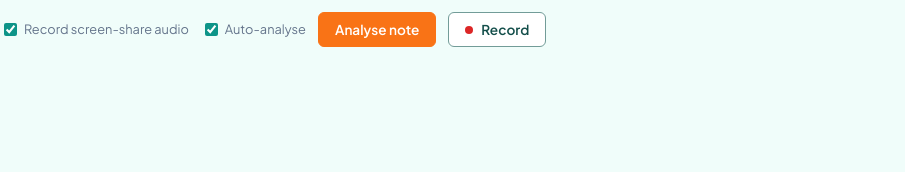
Test: what the user is told when an analysis fails › says analysis is temporarily unavailable when the server faults
Click the button "Analyse note": (377, 30) top-left (318, 12), bottom-right (436, 47)
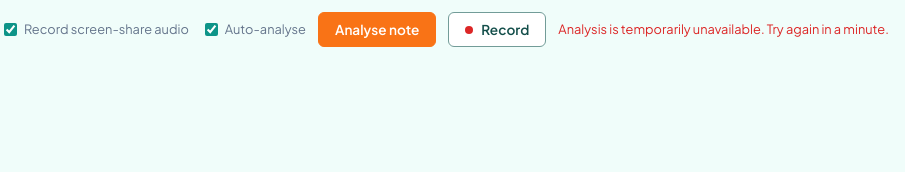
Check: the message "Analysis is temporarily unavailable. Try again in a minute." is shown, box top-left (558, 19), bottom-right (889, 40)
Check: the message with test id "transcription-analyse-error" shows "temporarily unavailable", box top-left (558, 21), bottom-right (889, 37)
